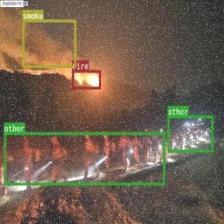smoke: (22, 19, 76, 67)
